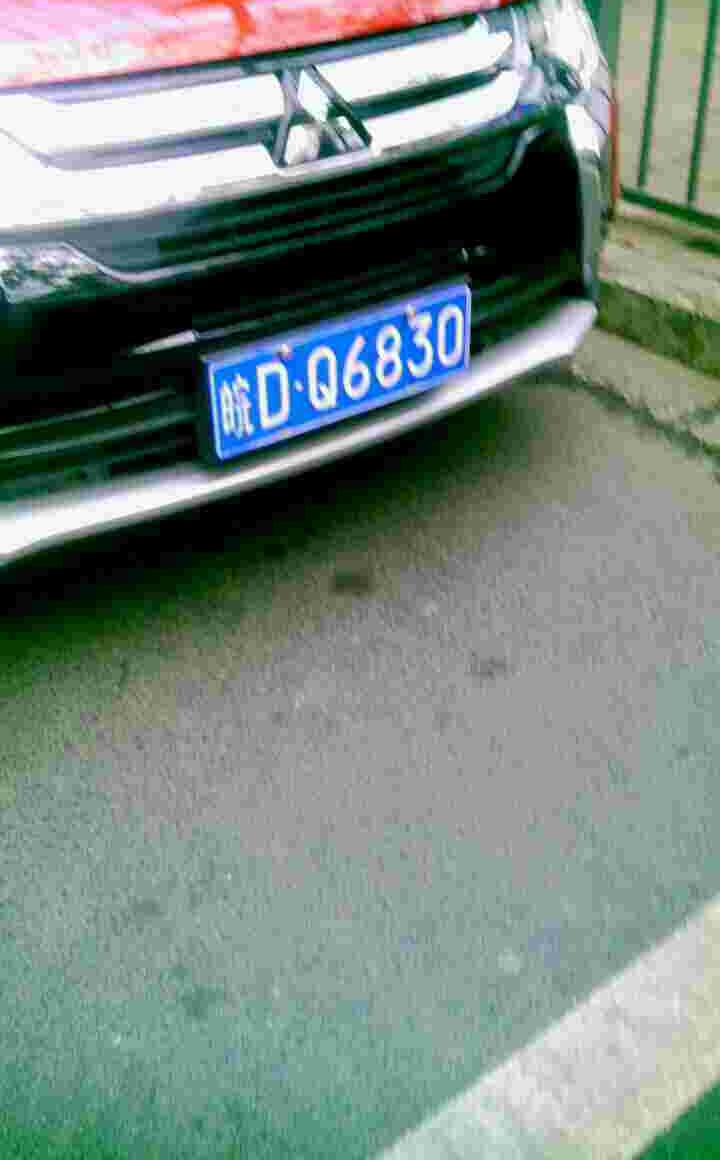license_plate: (203, 291, 474, 462)
